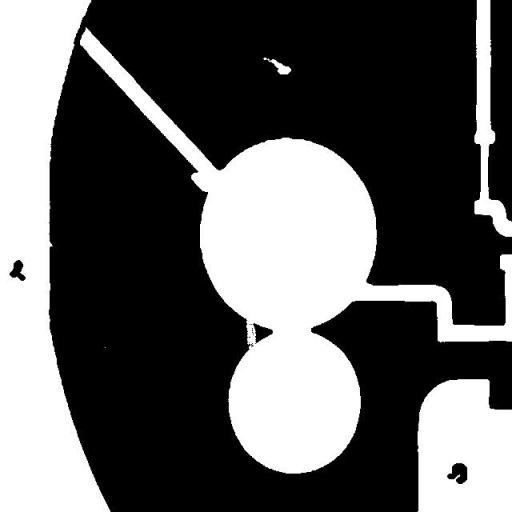copper: (440, 455, 474, 491), (2, 252, 32, 288)
mousebite: (184, 164, 218, 199)
open: (238, 310, 264, 360)
pin-hole: (256, 50, 298, 82)
short: (64, 8, 95, 66)
